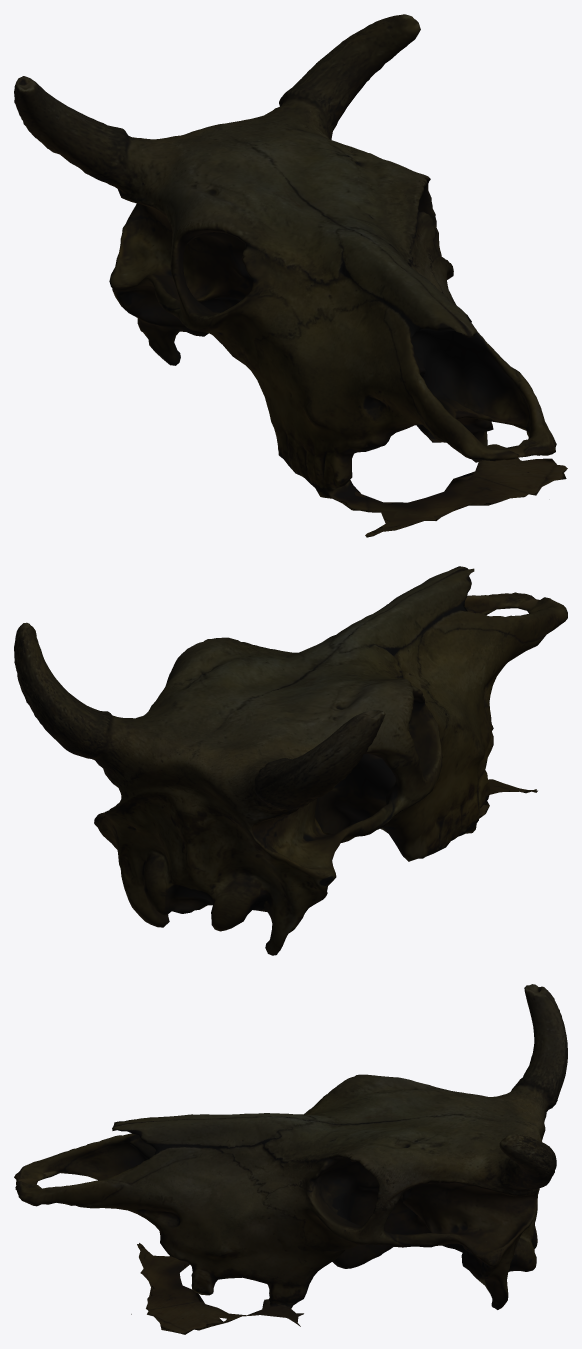
The model's file is model_obj-Saratov.glb.
The picture shows the model from 3 angles, top to bottom: view 1: azimuth 30°, elevation 25°; view 2: azimuth 150°, elevation 25°; view 3: azimuth 270°, elevation 25°; orthographic projection. The views are drawn at different scales.
Parts seen in each view (by area): view 1: Node1; view 2: Node1; view 3: Node1.
Part boxes in pixels (x1,y1,x2,y2): Node1: [14, 14, 567, 537]; Node1: [14, 566, 567, 955]; Node1: [14, 984, 567, 1334].
Size of the model in its own units: 0.2775 by 0.2041 by 0.444.
Materials: 1 (1 with a texture image).
